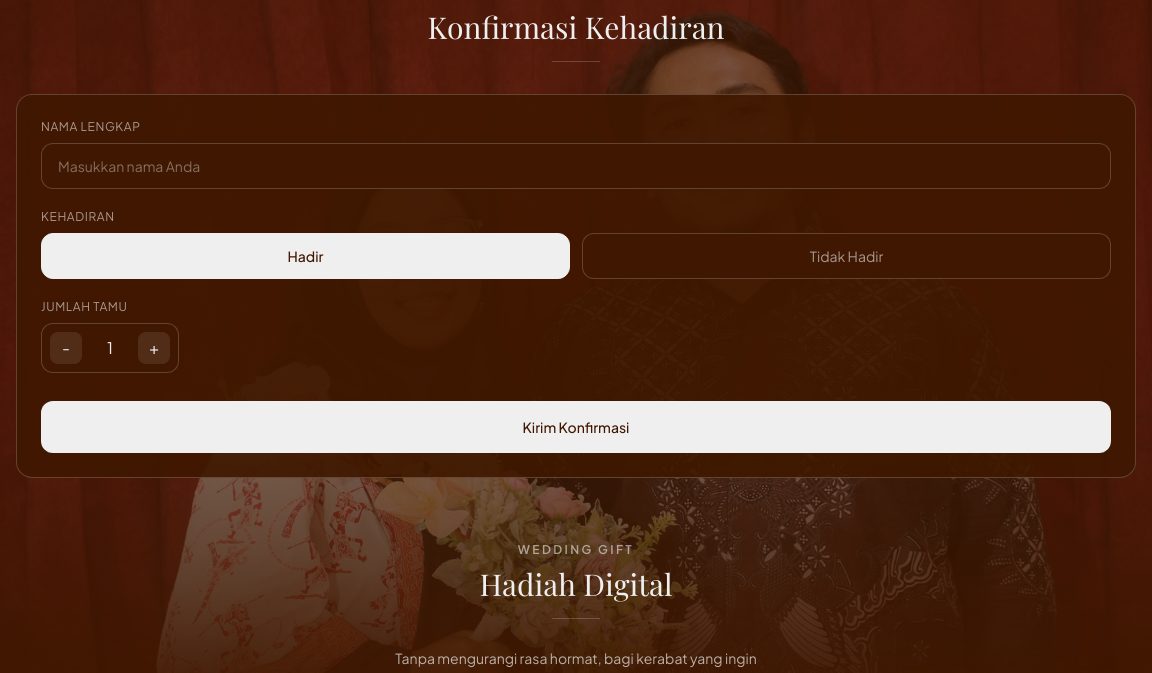
Test case: RSVP form security and reliability › shows an RSVP error instead of a false success state
The image size is (1152, 673).
(page scrolled)
Type "Budi" into the field with placeholder "Masukkan nama Anda" at (576, 166), box [41,143,1111,189]
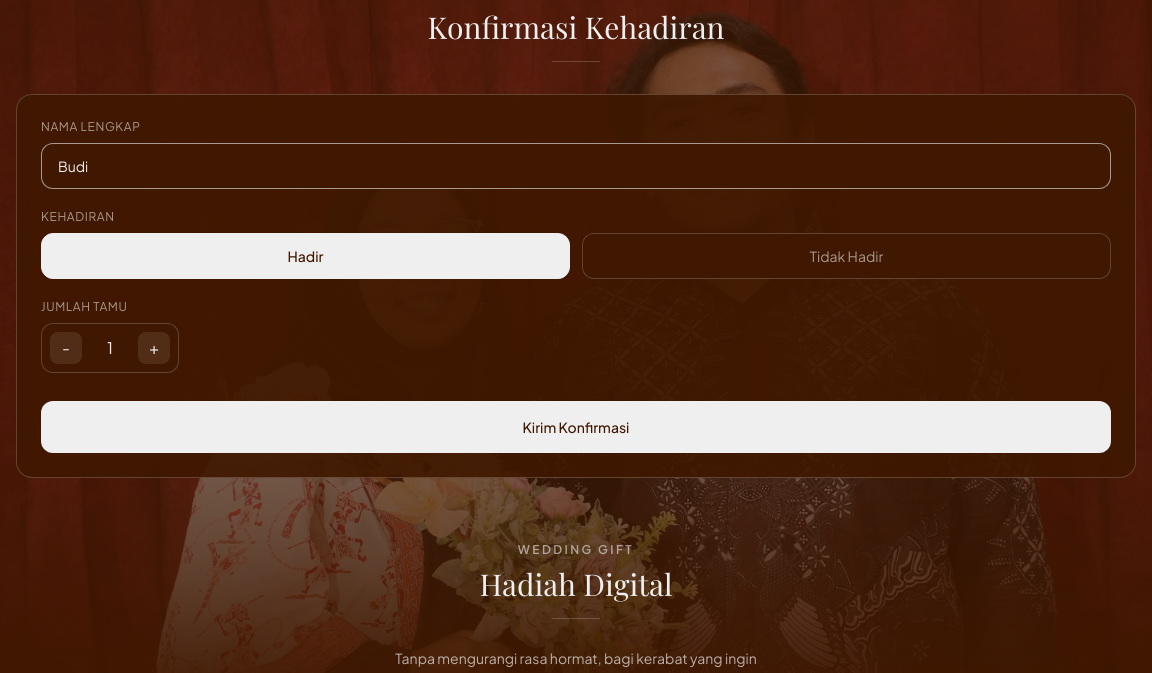
Click the button "Kirim Konfirmasi" at (576, 427), box [41,401,1111,453]
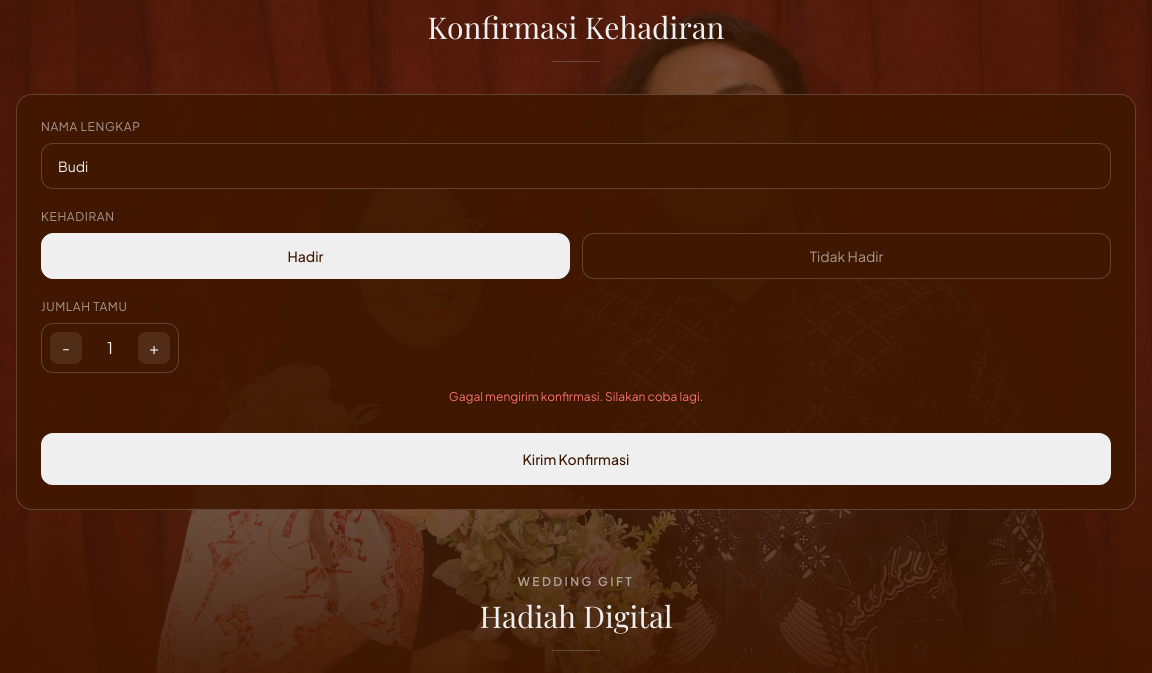
Check: the button "Kirim Konfirmasi" is enabled, box [41,433,1111,485]
Check: the text "Gagal mengirim konfirmasi. Silakan coba lagi." is shown, box [449,389,703,404]
